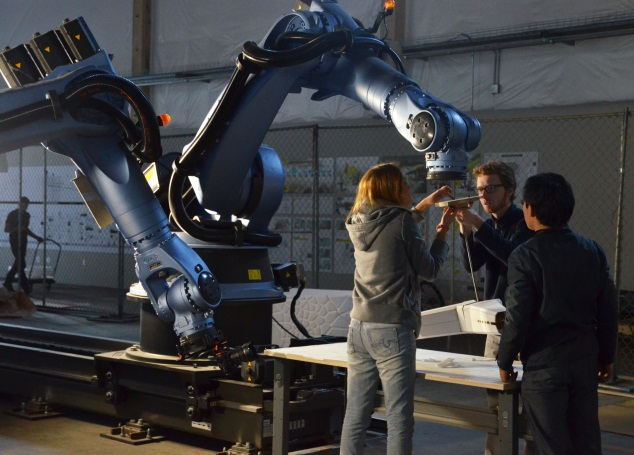person: (497, 173, 618, 455), (343, 162, 457, 455), (455, 159, 538, 304), (5, 196, 45, 299)
robot: (125, 1, 482, 305), (1, 15, 257, 377)
